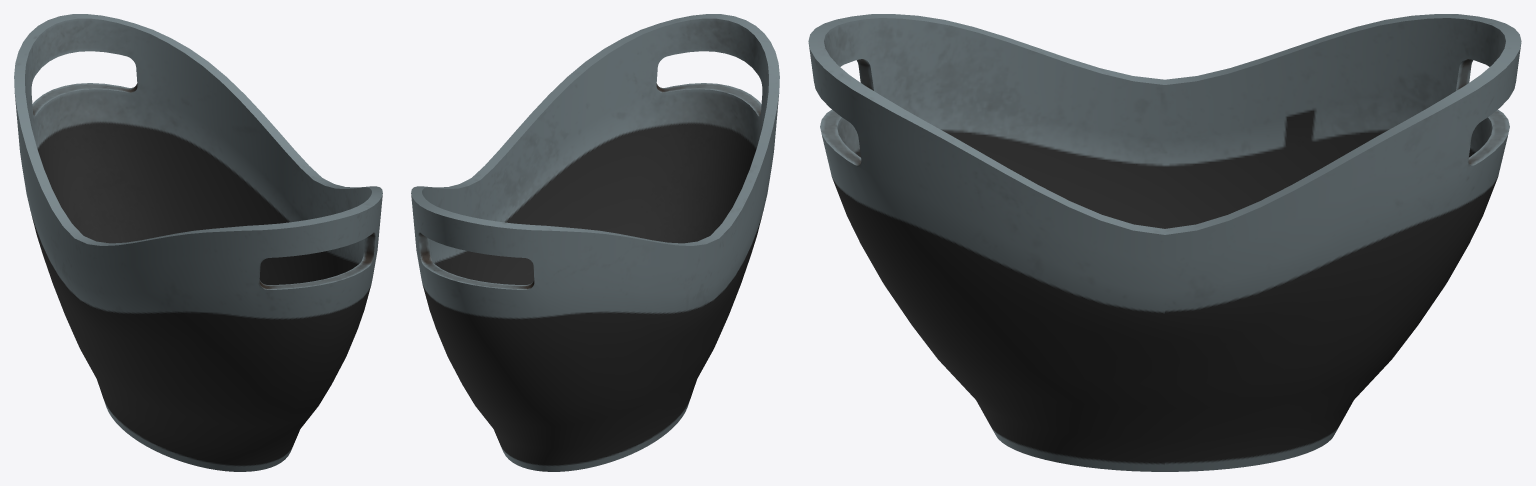
The model's file is SM_BottleHolderPlastic.fbx.
3 views of the same model, side by side, from view 1: azimuth 30°, elevation 25°; view 2: azimuth 150°, elevation 25°; view 3: azimuth 270°, elevation 25° (orthographic). The views are drawn at different scales.
Visible parts, largest first — view 1: SM_BottleHolderPlastic_LOD0; view 2: SM_BottleHolderPlastic_LOD0; view 3: SM_BottleHolderPlastic_LOD0.
Part boxes in pixels (bbox=[...]): SM_BottleHolderPlastic_LOD0: bbox=[14, 14, 382, 471]; SM_BottleHolderPlastic_LOD0: bbox=[411, 14, 779, 471]; SM_BottleHolderPlastic_LOD0: bbox=[808, 14, 1521, 471].
Bounding box in the file's own units: 27.57 × 53.5 × 32.19.
1 material, 1 textured.
